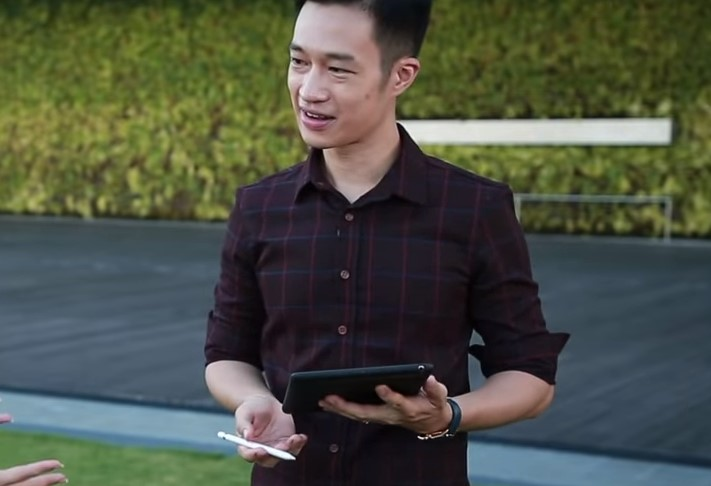face_no_mask: (282, 7, 424, 162)
